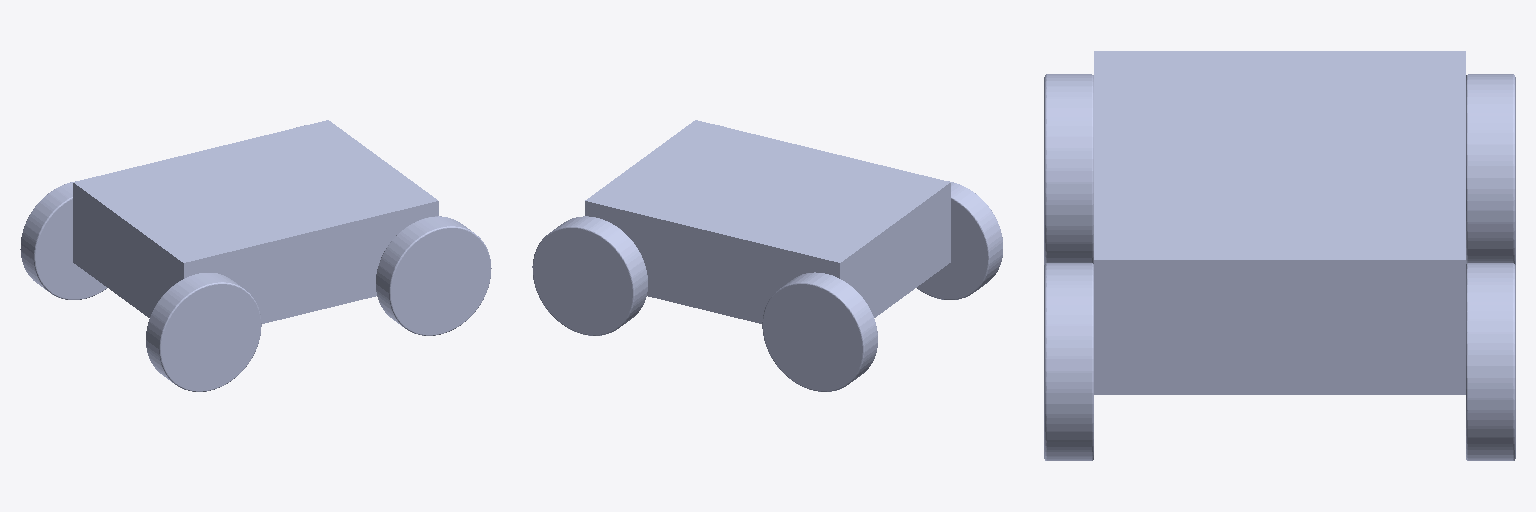
The robot description file, URDF, robot "simple_robot_car":
<?xml version="1.0" encoding="utf-8"?>
<!-- This URDF was automatically created by SolidWorks to URDF Exporter! Originally created by [author] ([email redacted]) 
     Commit Version: 1.6.0-4-g7f85cfe  Build Version: 1.6.7995.38578
     For more information, please see http://wiki.ros.org/sw_urdf_exporter -->
<robot
  name="simple_robot_car">
  <link
    name="base_link">
    <inertial>
      <origin
        xyz="3.46944695195361E-18 8.13151629364128E-20 -0.00762885082499636"
        rpy="0 0 0" />
      <mass
        value="0.0295481966798763" />
      <inertia
        ixx="4.16167841962694E-06"
        ixy="7.43950876610838E-22"
        ixz="-3.29139139146144E-23"
        iyy="6.94254087483972E-06"
        iyz="1.57980461815193E-23"
        izz="9.95971925663699E-06" />
    </inertial>
    <visual>
      <origin
        xyz="0 0 0"
        rpy="0 0 0" />
      <geometry>
        <mesh
          filename="package://simple_robot_car/meshes/base_link.STL" />
      </geometry>
      <material
        name="">
        <color
          rgba="0.792156862745098 0.819607843137255 0.933333333333333 1" />
      </material>
    </visual>
    <collision>
      <origin
        xyz="0 0 0"
        rpy="0 0 0" />
      <geometry>
        <mesh
          filename="package://simple_robot_car/meshes/base_link.STL" />
      </geometry>
    </collision>
  </link>
  <link
    name="FR_wheel_link">
    <inertial>
      <origin
        xyz="-3.4694E-18 -0.00253 -1.7347E-18"
        rpy="0 0 0" />
      <mass
        value="0.0016328" />
      <inertia
        ixx="4.5923E-08"
        ixy="9.9798E-24"
        ixz="-8.9695E-25"
        iyy="8.4837E-08"
        iyz="-4.5946E-26"
        izz="4.5923E-08" />
    </inertial>
    <visual>
      <origin
        xyz="0 0 0"
        rpy="0 0 0" />
      <geometry>
        <mesh
          filename="package://simple_robot_car/meshes/FR_wheel_link.STL" />
      </geometry>
      <material
        name="">
        <color
          rgba="0.79216 0.81961 0.93333 1" />
      </material>
    </visual>
    <collision>
      <origin
        xyz="0 0 0"
        rpy="0 0 0" />
      <geometry>
        <mesh
          filename="package://simple_robot_car/meshes/FR_wheel_link.STL" />
      </geometry>
    </collision>
  </link>
  <joint
    name="FR_wheel_joint"
    type="continuous">
    <origin
      xyz="0.02286 0.02413 -0.0127"
      rpy="0 0 0" />
    <parent
      link="base_link" />
    <child
      link="FR_wheel_link" />
    <axis
      xyz="0 1 0" />
  </joint>
  <link
    name="FL_wheel_link">
    <inertial>
      <origin
        xyz="5.2042E-18 0.00253 -1.7347E-18"
        rpy="0 0 0" />
      <mass
        value="0.0016328" />
      <inertia
        ixx="4.5923E-08"
        ixy="8.8645E-24"
        ixz="-1.2746E-42"
        iyy="8.4837E-08"
        iyz="-7.6776E-41"
        izz="4.5923E-08" />
    </inertial>
    <visual>
      <origin
        xyz="0 0 0"
        rpy="0 0 0" />
      <geometry>
        <mesh
          filename="package://simple_robot_car/meshes/FL_wheel_link.STL" />
      </geometry>
      <material
        name="">
        <color
          rgba="0.79216 0.81961 0.93333 1" />
      </material>
    </visual>
    <collision>
      <origin
        xyz="0 0 0"
        rpy="0 0 0" />
      <geometry>
        <mesh
          filename="package://simple_robot_car/meshes/FL_wheel_link.STL" />
      </geometry>
    </collision>
  </link>
  <joint
    name="FL_wheel_joint"
    type="continuous">
    <origin
      xyz="0.02286 -0.02413 -0.0127"
      rpy="0 0 0" />
    <parent
      link="base_link" />
    <child
      link="FL_wheel_link" />
    <axis
      xyz="0 1 0" />
  </joint>
  <link
    name="BR_wheel_link">
    <inertial>
      <origin
        xyz="-3.4694E-18 -0.00253 0"
        rpy="0 0 0" />
      <mass
        value="0.0016328" />
      <inertia
        ixx="4.5923E-08"
        ixy="1.2637E-23"
        ixz="-8.9695E-25"
        iyy="8.4837E-08"
        iyz="-4.5946E-26"
        izz="4.5923E-08" />
    </inertial>
    <visual>
      <origin
        xyz="0 0 0"
        rpy="0 0 0" />
      <geometry>
        <mesh
          filename="package://simple_robot_car/meshes/BR_wheel_link.STL" />
      </geometry>
      <material
        name="">
        <color
          rgba="0.79216 0.81961 0.93333 1" />
      </material>
    </visual>
    <collision>
      <origin
        xyz="0 0 0"
        rpy="0 0 0" />
      <geometry>
        <mesh
          filename="package://simple_robot_car/meshes/BR_wheel_link.STL" />
      </geometry>
    </collision>
  </link>
  <joint
    name="BR_wheel_joint"
    type="continuous">
    <origin
      xyz="-0.02286 0.02413 -0.0127"
      rpy="0 0 0" />
    <parent
      link="base_link" />
    <child
      link="BR_wheel_link" />
    <axis
      xyz="0 1 0" />
  </joint>
  <link
    name="BL_wheel_link">
    <inertial>
      <origin
        xyz="3.4694E-18 0.00253 -1.7347E-18"
        rpy="0 0 0" />
      <mass
        value="0.0016328" />
      <inertia
        ixx="4.5923E-08"
        ixy="7.0633E-24"
        ixz="-1.2746E-42"
        iyy="8.4837E-08"
        iyz="-7.6776E-41"
        izz="4.5923E-08" />
    </inertial>
    <visual>
      <origin
        xyz="0 0 0"
        rpy="0 0 0" />
      <geometry>
        <mesh
          filename="package://simple_robot_car/meshes/BL_wheel_link.STL" />
      </geometry>
      <material
        name="">
        <color
          rgba="0.79216 0.81961 0.93333 1" />
      </material>
    </visual>
    <collision>
      <origin
        xyz="0 0 0"
        rpy="0 0 0" />
      <geometry>
        <mesh
          filename="package://simple_robot_car/meshes/BL_wheel_link.STL" />
      </geometry>
    </collision>
  </link>
  <joint
    name="BL_wheel_joint"
    type="continuous">
    <origin
      xyz="-0.02286 -0.02413 -0.0127"
      rpy="0 0 0" />
    <parent
      link="base_link" />
    <child
      link="BL_wheel_link" />
    <axis
      xyz="0 1 0" />
  </joint>
</robot>

--- What the picture shows (computed from the rendered views, not written in the file) ---
3 views of the same robot in one strip: view 1: azimuth 30°, elevation 25°; view 2: azimuth 150°, elevation 25°; view 3: azimuth 270°, elevation 25° (orthographic).
Model simple_robot_car with 5 links and 4 joints (4 continuous), rooted at base_link, posed all joints at 0.
Visible links, largest first — view 1: base_link, FL_wheel_link, BL_wheel_link, BR_wheel_link; view 2: base_link, BR_wheel_link, FR_wheel_link, BL_wheel_link; view 3: base_link, FR_wheel_link, FL_wheel_link, BR_wheel_link, BL_wheel_link.
Boxes of the visible links, x1,y1,x2,y2 form: base_link: (73, 120, 438, 323); FL_wheel_link: (376, 216, 491, 335); BL_wheel_link: (146, 273, 261, 391); BR_wheel_link: (20, 181, 106, 299); base_link: (585, 120, 950, 323); BR_wheel_link: (762, 272, 877, 391); FR_wheel_link: (532, 216, 647, 335); BL_wheel_link: (917, 181, 1002, 299); base_link: (1094, 51, 1465, 394); FR_wheel_link: (1466, 263, 1515, 460); FL_wheel_link: (1044, 263, 1093, 460); BR_wheel_link: (1466, 74, 1515, 264); BL_wheel_link: (1044, 74, 1093, 264).
Size in the robot's own frame: 0.066 by 0.0483 by 0.0229 metres.
Meshes: 5 distinct files referenced, 5 mesh visuals loaded (5 binary STL).